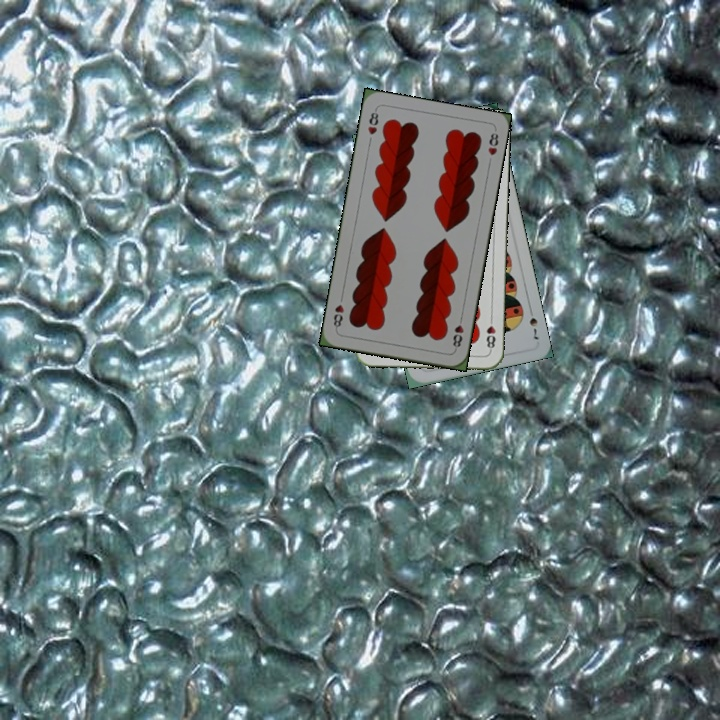H8: (449, 312, 466, 353), (482, 313, 498, 353), (364, 105, 381, 137)
S7: (525, 303, 541, 342)
